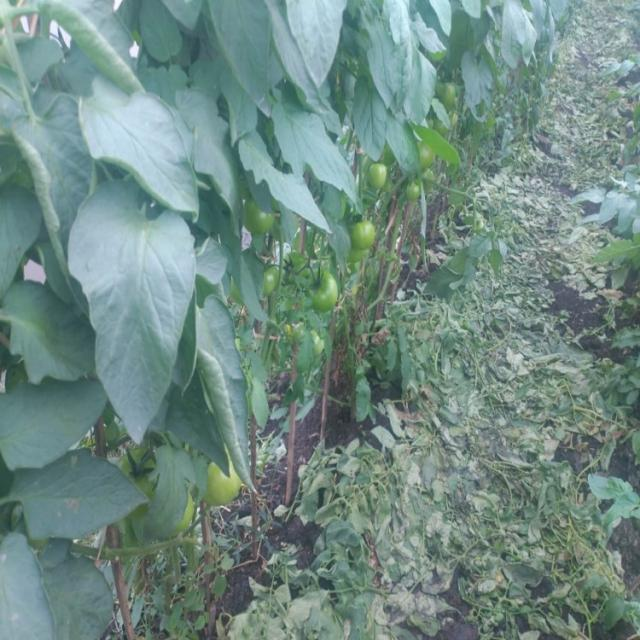tomato: (115, 445, 200, 524), (201, 462, 247, 515), (239, 256, 281, 306), (302, 268, 344, 316), (350, 213, 385, 264), (365, 154, 403, 199), (413, 145, 449, 177), (244, 200, 278, 231), (401, 178, 423, 209), (442, 79, 462, 110)
